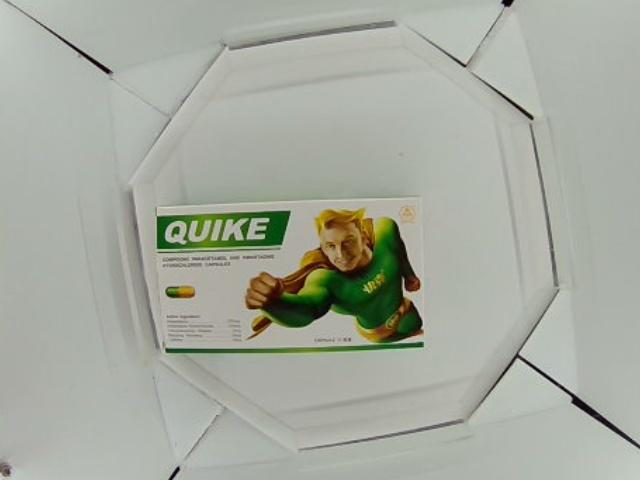Medicine: (155, 196, 426, 362)
